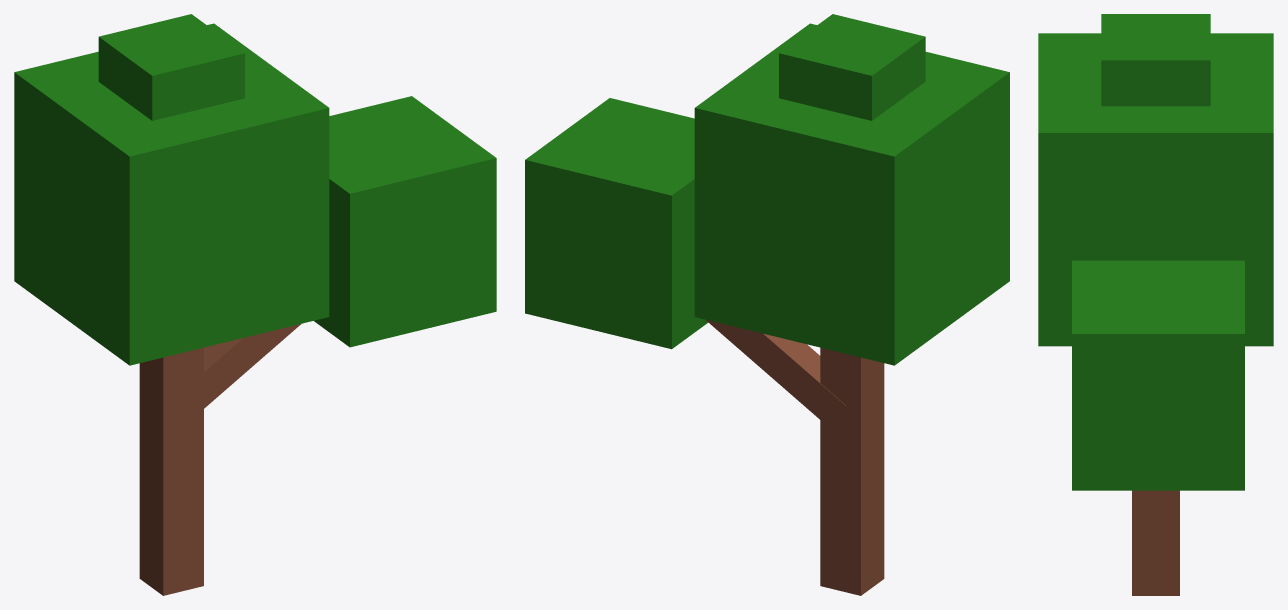
Rendered from Tree_48_summer_mat.fbx.
The picture shows the model from 3 angles, left to right: view 1: azimuth 30°, elevation 25°; view 2: azimuth 150°, elevation 25°; view 3: azimuth 270°, elevation 25°; orthographic projection. The views are drawn at different scales.
Visible parts, largest first — view 1: Tree_48_summer_mat; view 2: Tree_48_summer_mat; view 3: Tree_48_summer_mat.
Boxes of the visible parts, bbox=[...] form: Tree_48_summer_mat: bbox=[14, 14, 496, 595]; Tree_48_summer_mat: bbox=[525, 14, 1009, 595]; Tree_48_summer_mat: bbox=[1038, 14, 1273, 595].
Size of the model in its own units: 140 by 187 by 72.7.
